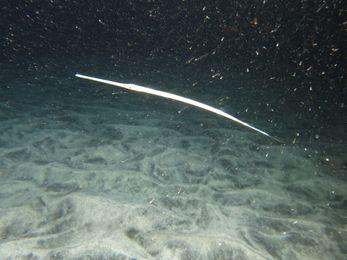Fistularia commersonii: (73, 70, 286, 146)
